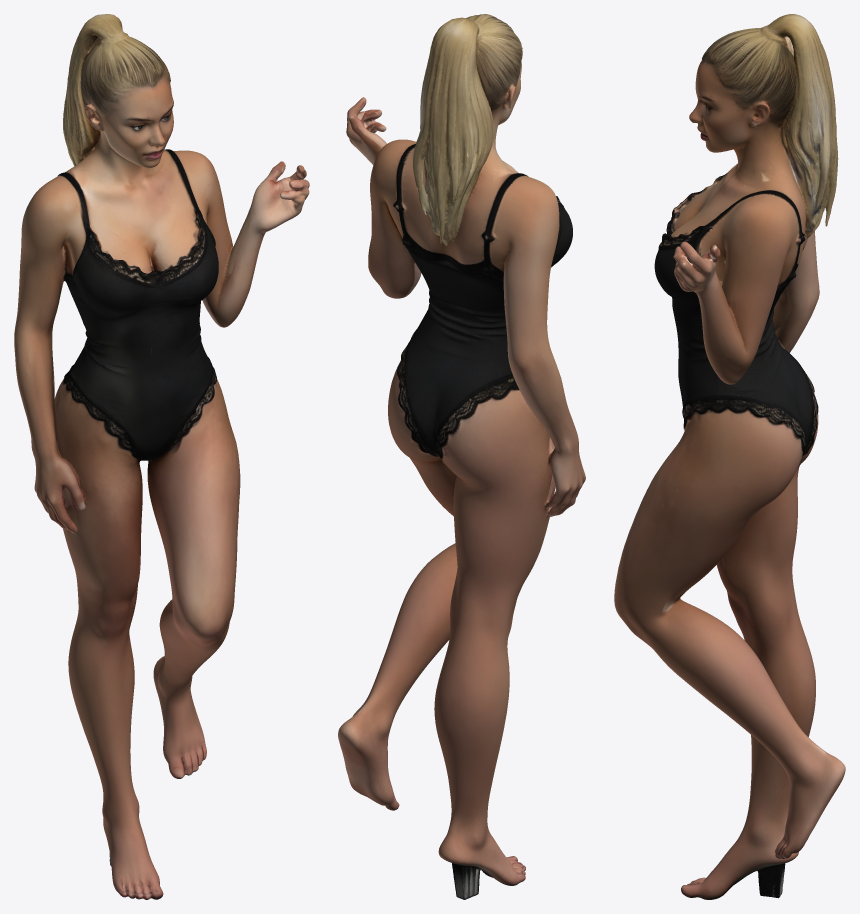
File: midnight_lace.glb
3 views of the same model, side by side, from view 1: azimuth 30°, elevation 25°; view 2: azimuth 150°, elevation 25°; view 3: azimuth 270°, elevation 25° (orthographic). The views are drawn at different scales.
Parts seen in each view (by area): view 1: Object_5, Object_6; view 2: Object_6, Object_5; view 3: Object_5, Object_6.
Boxes of the visible parts, <box> form: Object_5: <box>34,14,309,899</box>; Object_6: <box>14,16,233,876</box>; Object_6: <box>338,15,585,894</box>; Object_5: <box>346,14,585,899</box>; Object_5: <box>614,14,837,899</box>; Object_6: <box>720,15,845,895</box>.
Size of the model in its own units: 0.5747 by 1.9 by 0.4525.
1 material, 1 textured.
